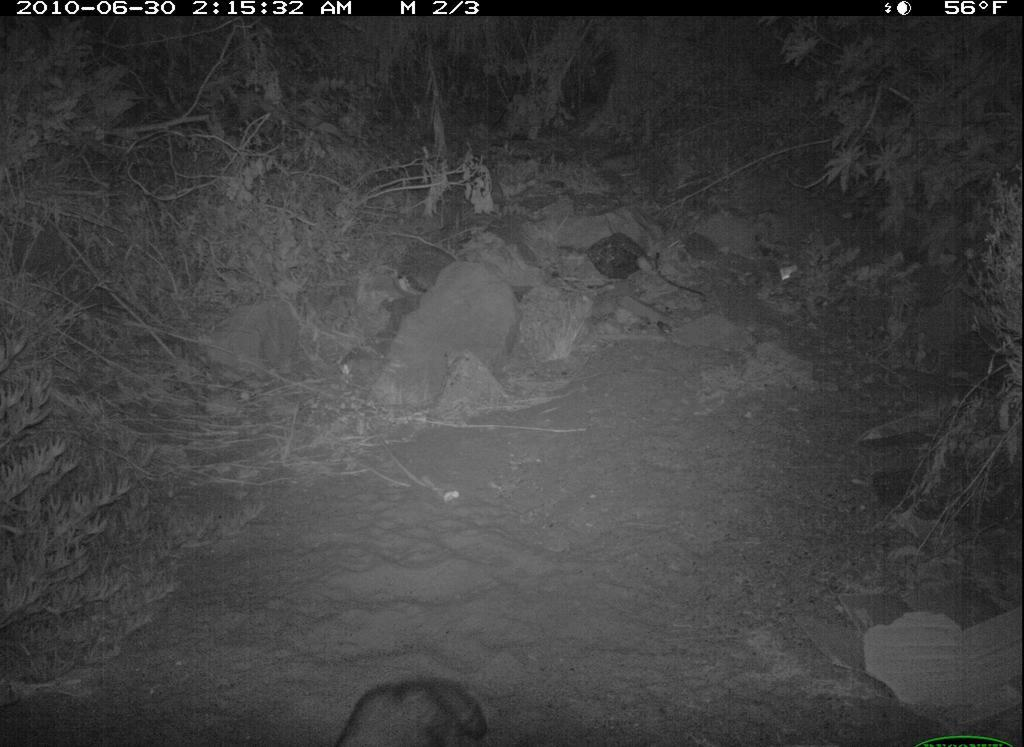raccoon: (326, 657, 489, 747)
